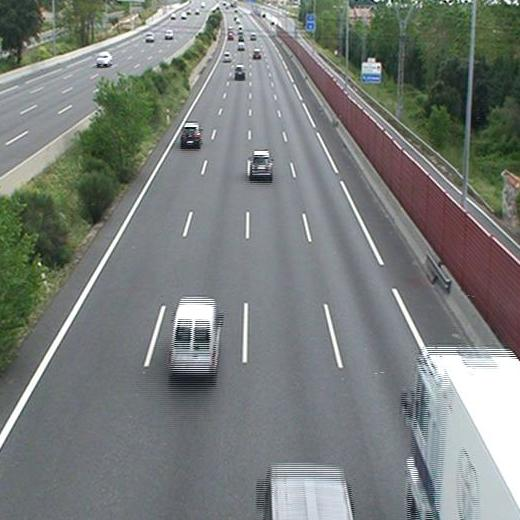car: (250, 152, 272, 175), (181, 123, 202, 144), (234, 66, 245, 76), (222, 52, 232, 61), (252, 50, 261, 58), (237, 42, 245, 49)
van: (169, 299, 219, 371)
